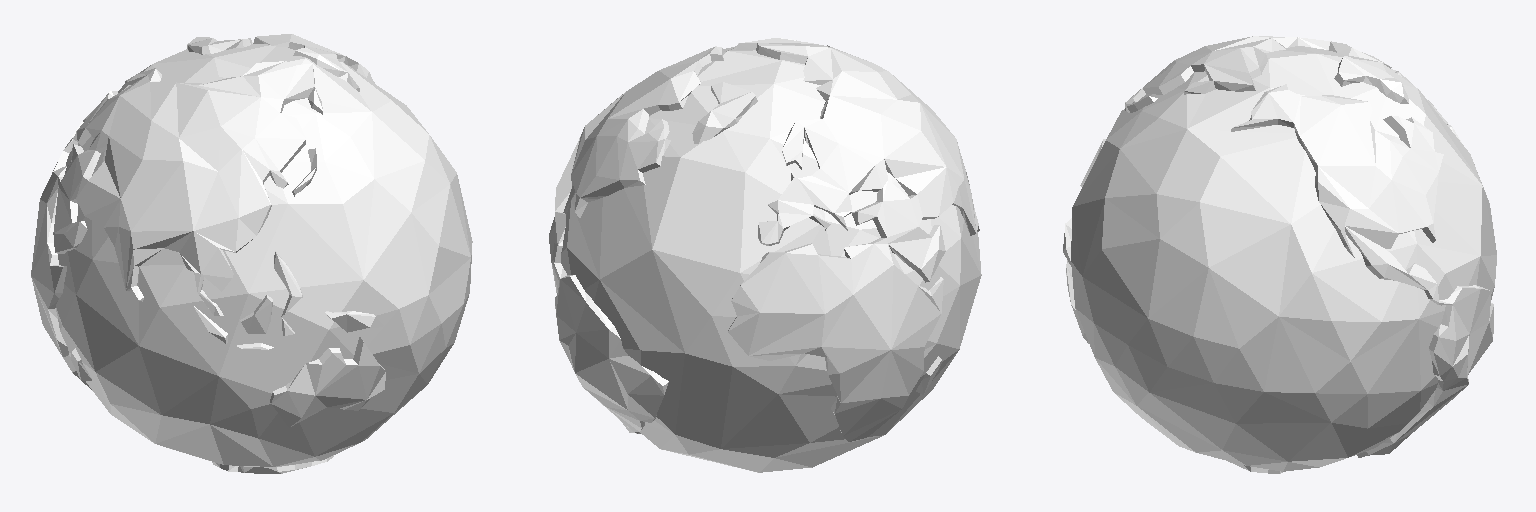
The model's file is globe.obj.
3 renders of one model, left to right at view 1: azimuth 30°, elevation 25°; view 2: azimuth 150°, elevation 25°; view 3: azimuth 270°, elevation 25°, orthographic.
Parts seen in each view (by area): view 1: Earth_Low_Poly:Earth_Water, Earth_Ground; view 2: Earth_Ground, Earth_Low_Poly:Earth_Water; view 3: Earth_Low_Poly:Earth_Water, Earth_Ground.
Part boxes in pixels (x1,y1,x2,y2): Earth_Low_Poly:Earth_Water: (56, 44, 472, 467); Earth_Ground: (31, 34, 385, 473); Earth_Ground: (553, 38, 979, 441); Earth_Low_Poly:Earth_Water: (549, 46, 981, 472); Earth_Low_Poly:Earth_Water: (1071, 46, 1496, 471); Earth_Ground: (1063, 36, 1493, 473).
Size of the model in its own units: 7.34 by 7.47 by 7.36.